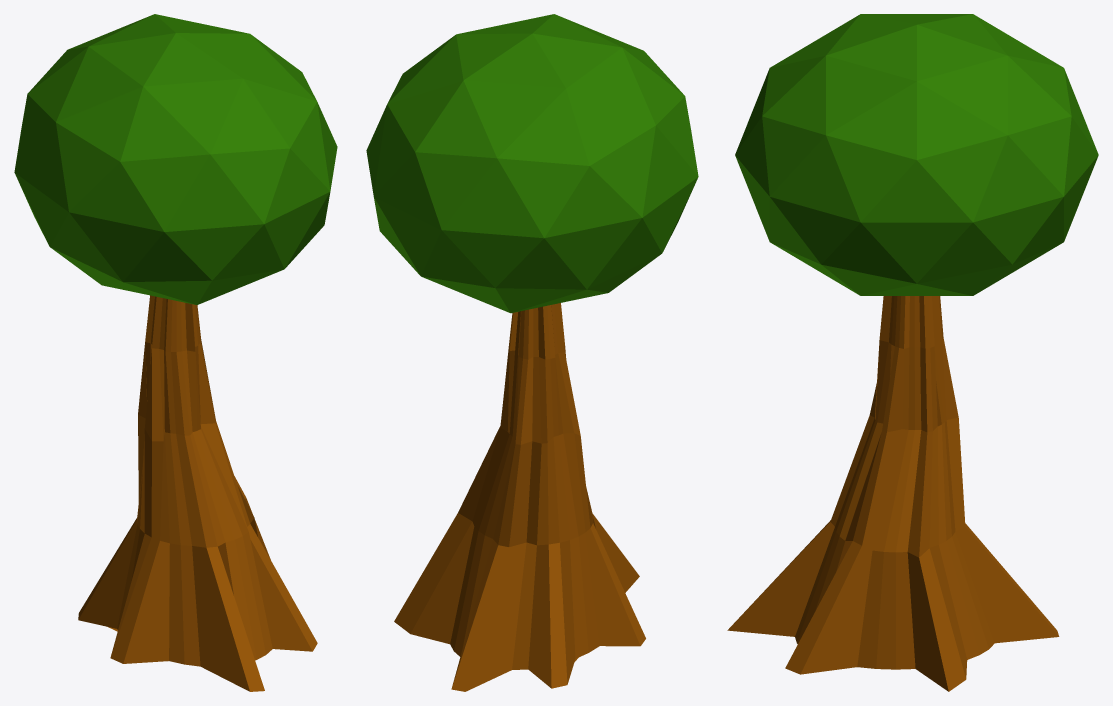
File: Tree001.fbx
The picture shows the model from 3 angles, left to right: view 1: azimuth 30°, elevation 25°; view 2: azimuth 150°, elevation 25°; view 3: azimuth 270°, elevation 25°; orthographic projection. The views are drawn at different scales.
Visible parts, largest first — view 1: Cylinder; view 2: Cylinder; view 3: Cylinder.
Part boxes in pixels (<box>): Cylinder: <box>14,14,337,691</box>; Cylinder: <box>366,14,698,691</box>; Cylinder: <box>727,14,1098,691</box>.
Size of the model in its own units: 525 by 1111 by 611.
